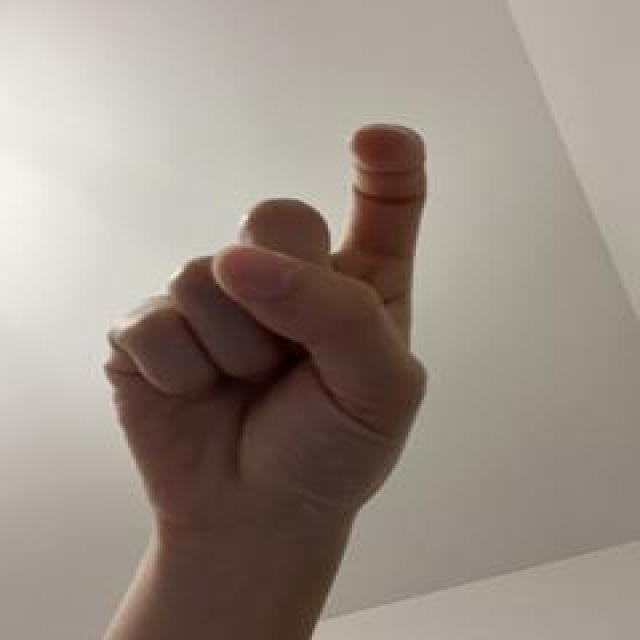X: (73, 88, 466, 636)
